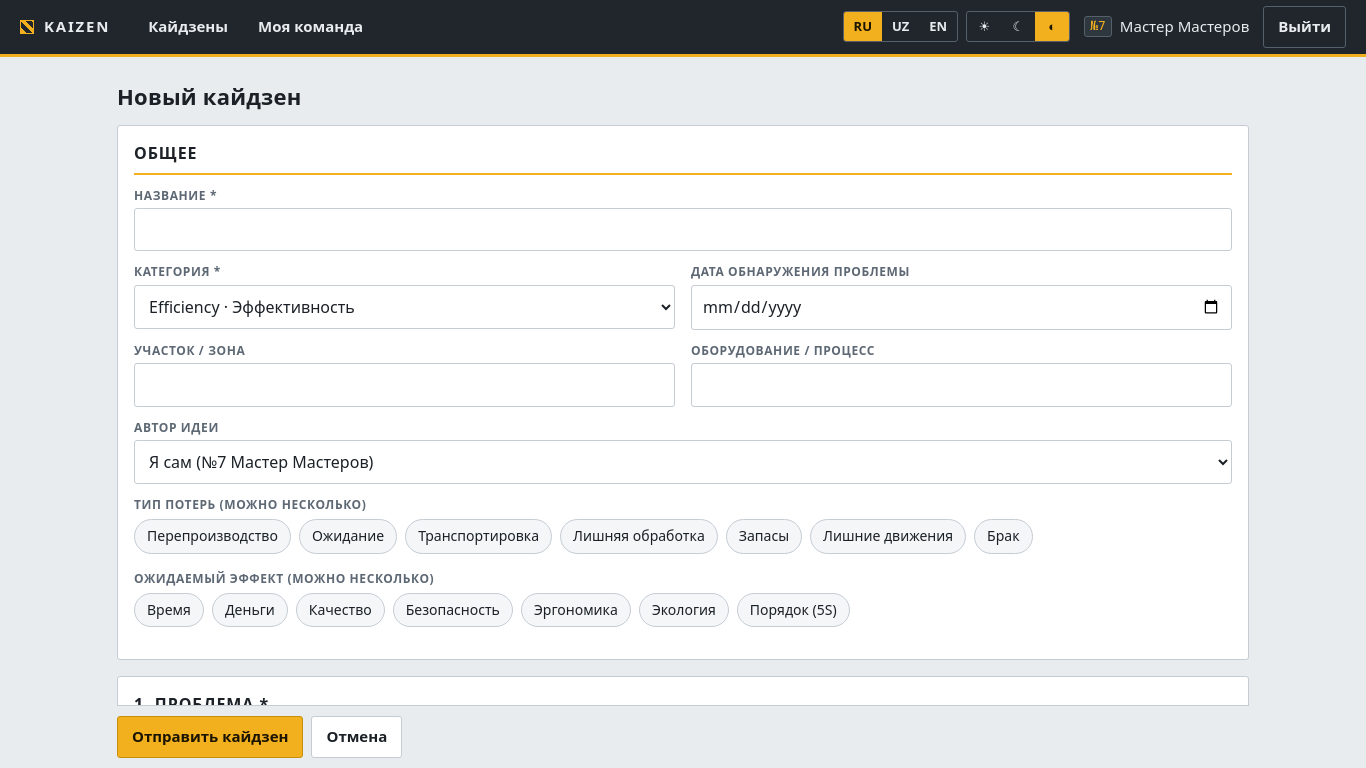
Scenario: форма › ошибка сервера показывается на языке интерфейса с именем поля
This screenshot has width=1366, height=768.
In the field labelled "Название *": (683, 230) left=134, top=208, right=1232, bottom=251, type "Новая идея"
(page scrolled)
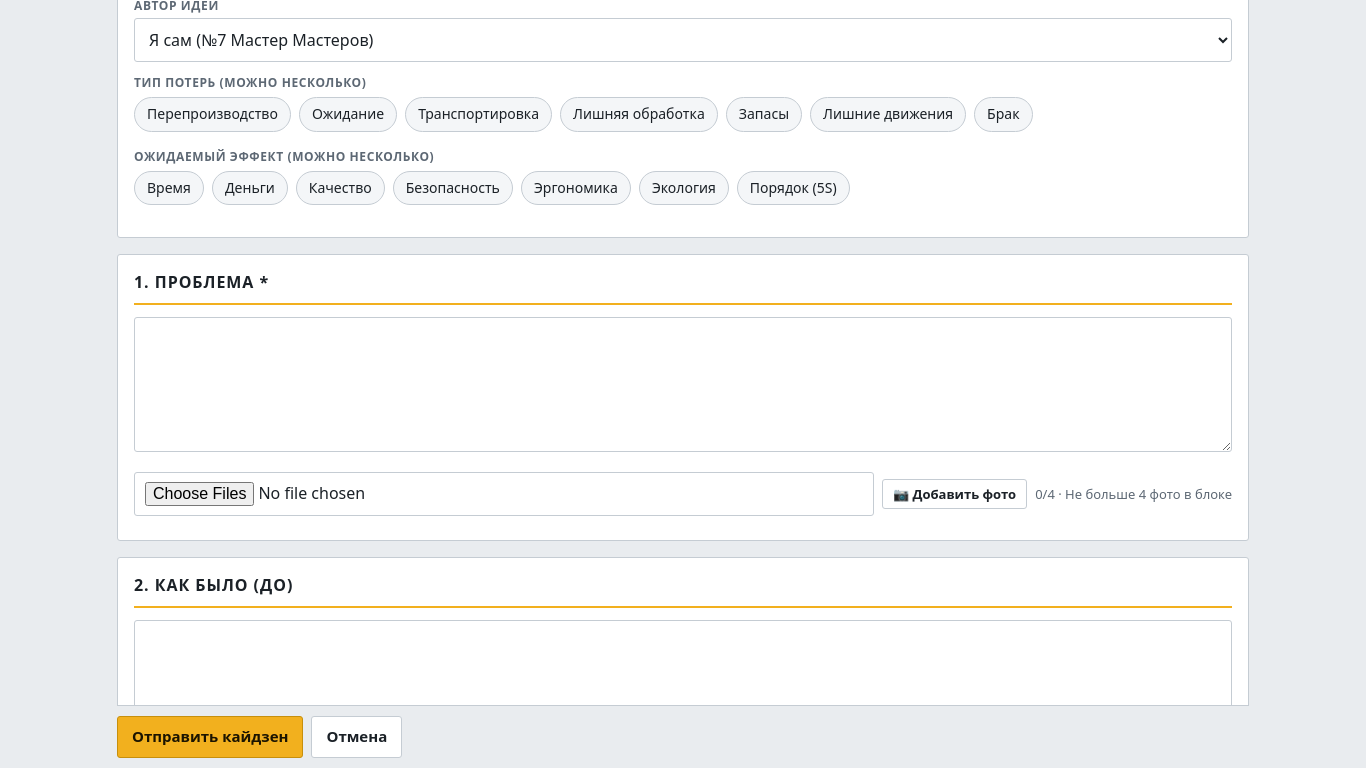
In the text box named "1. Проблема": (683, 384) left=134, top=316, right=1232, bottom=452, type "Проблема описана"
(page scrolled)
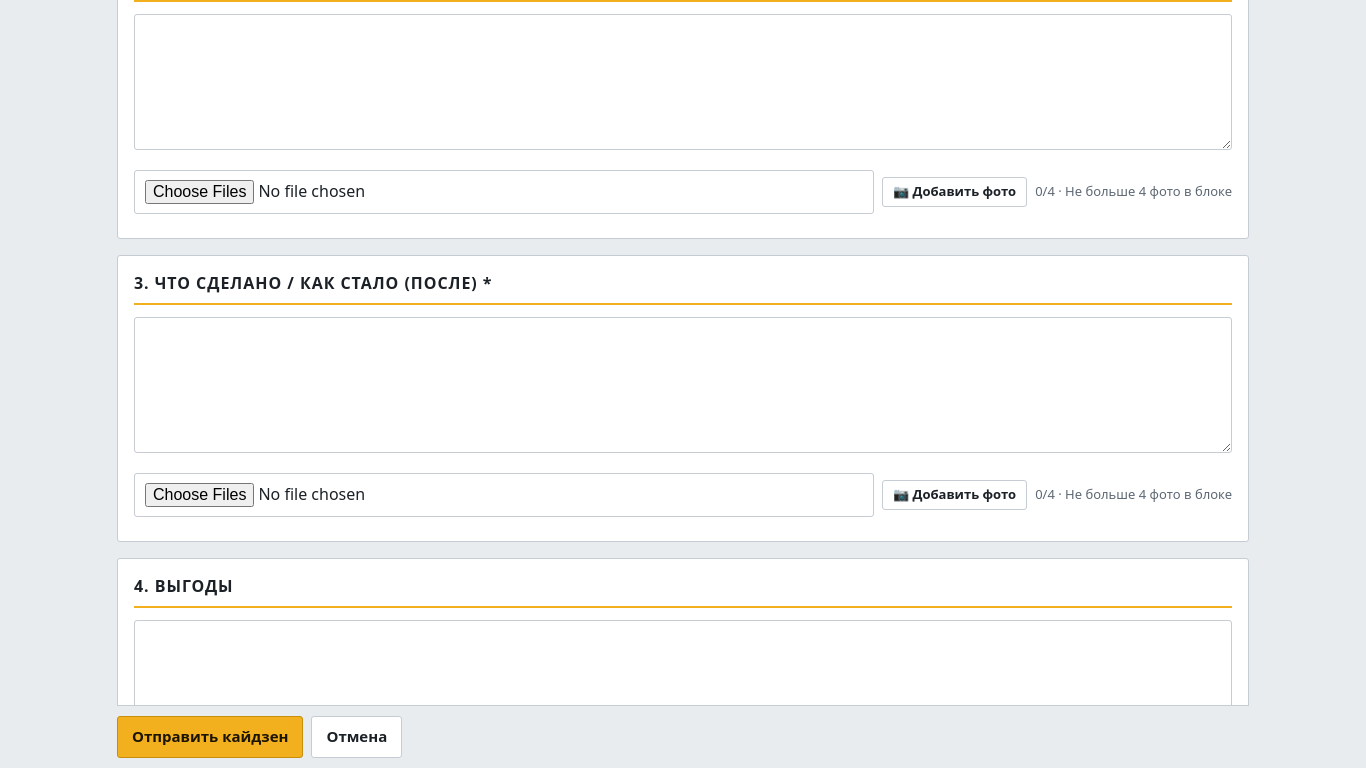
In the text box named "3. Что сделано / как стало (после)": (683, 385) left=134, top=317, right=1232, bottom=453, type "Решение описано"
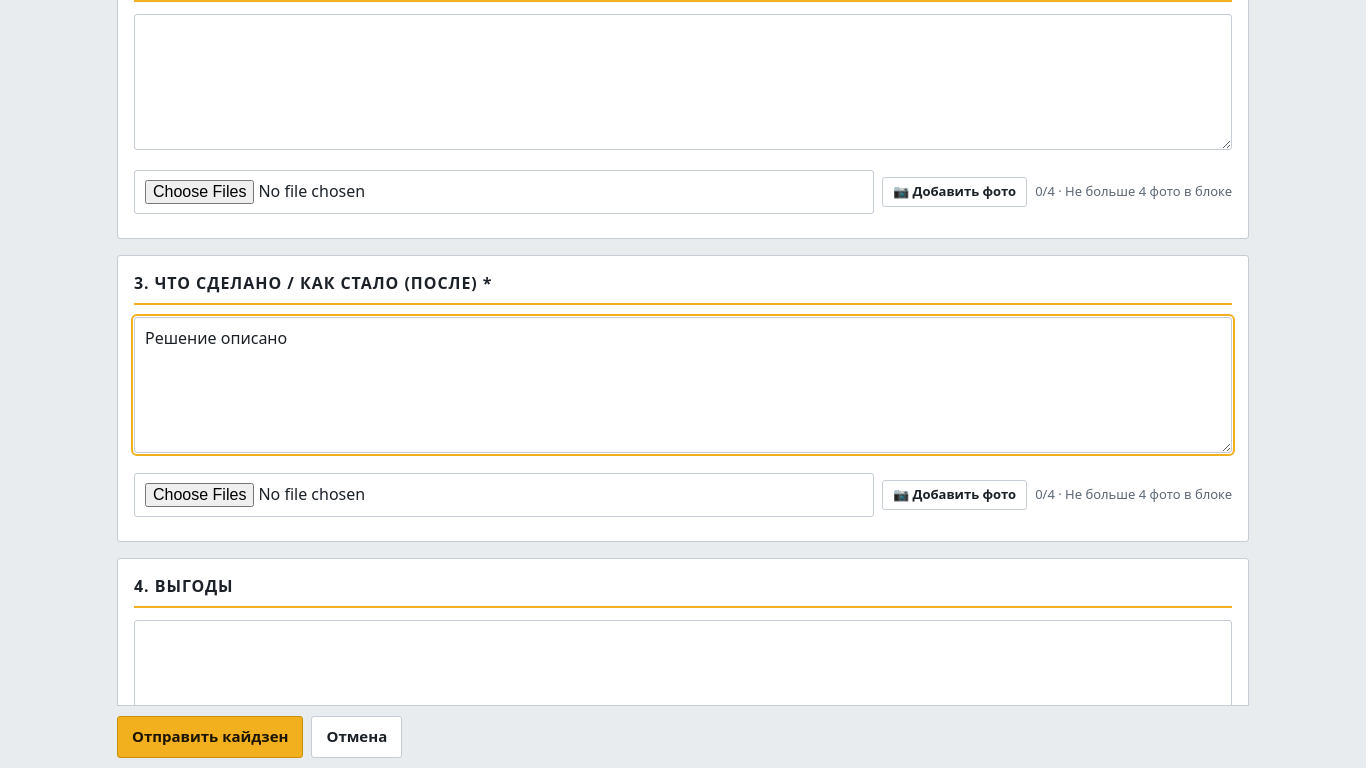
Click the button "Отправить кайдзен": (210, 737) left=117, top=716, right=303, bottom=758
(page scrolled)
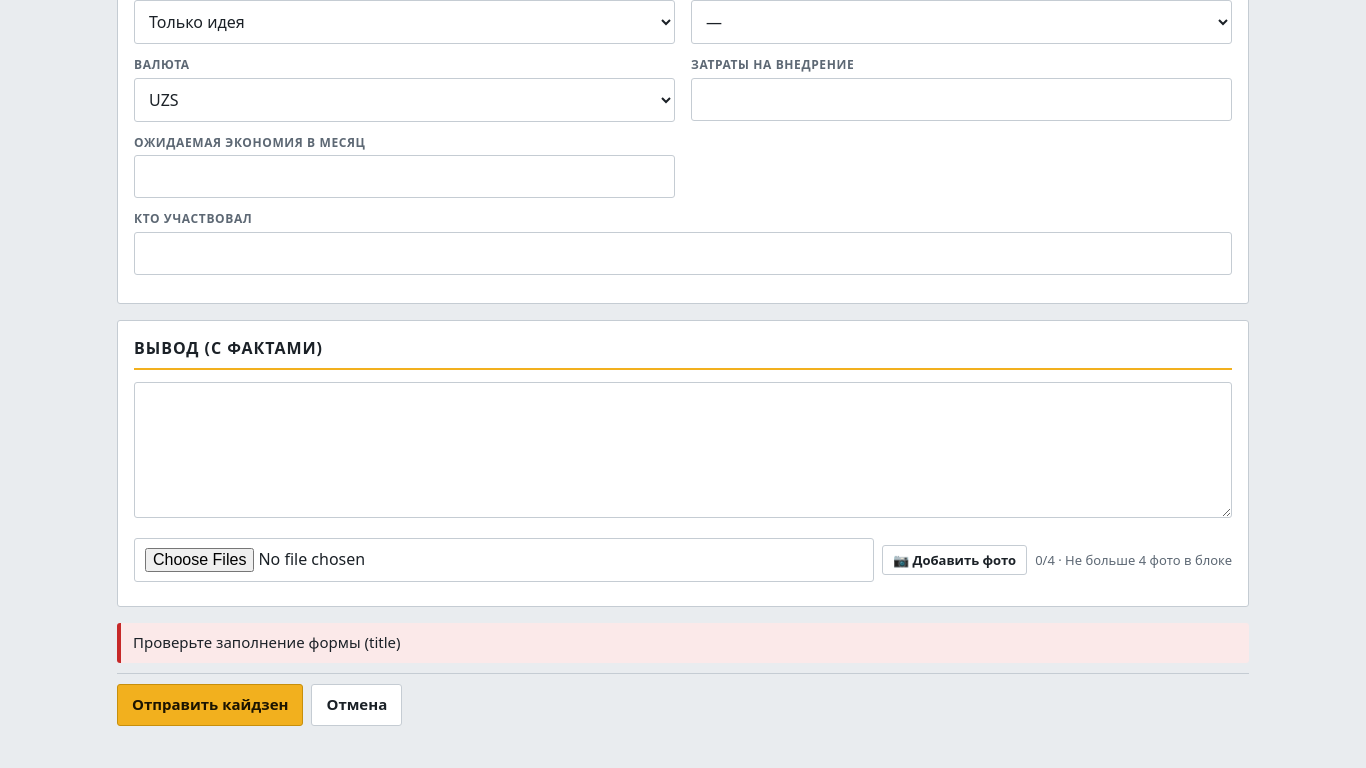
Now the message reads "Проверьте заполнение формы (title)", box left=133, top=632, right=400, bottom=652
